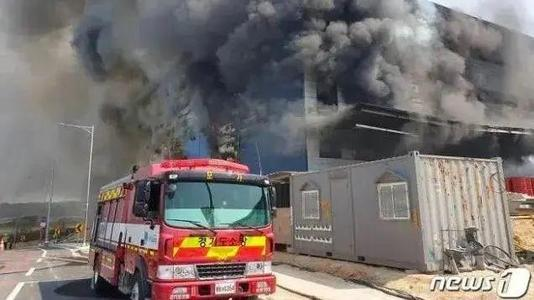smoke: (23, 6, 532, 146)
